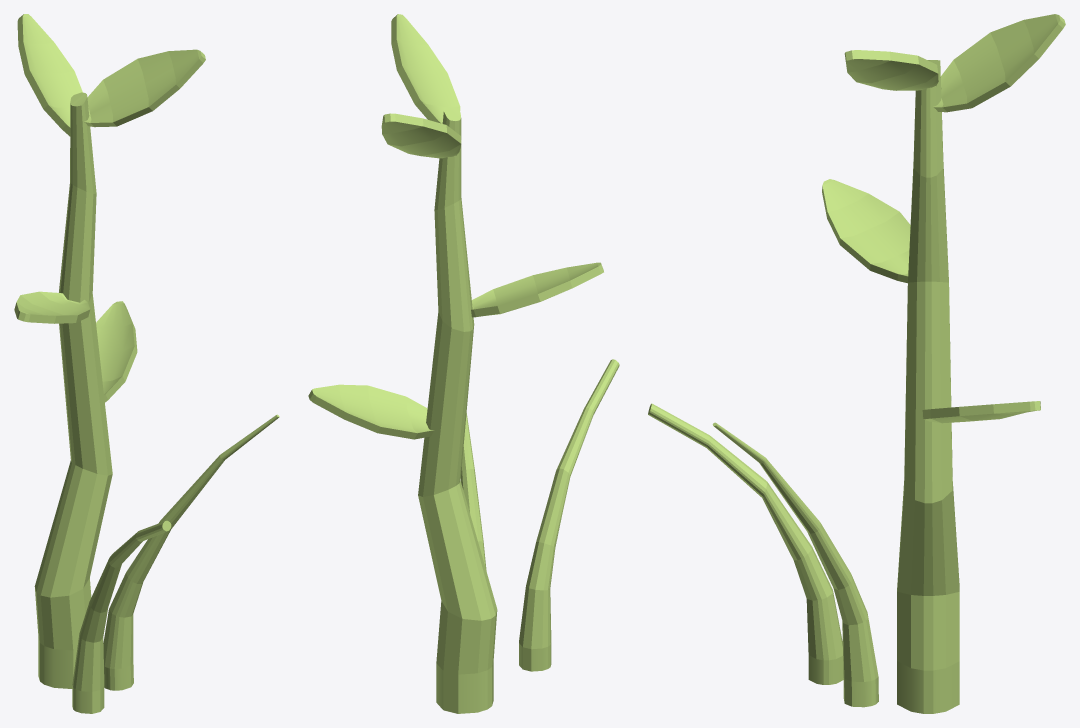
File: pousse_tomate_lavraie.fbx
3 views of the same model, side by side, from view 1: azimuth 30°, elevation 25°; view 2: azimuth 150°, elevation 25°; view 3: azimuth 270°, elevation 25° (orthographic). The views are drawn at different scales.
Parts seen in each view (by area): view 1: pCube9; view 2: pCube9; view 3: pCube9.
Boxes of the visible parts, x1,y1,x2,y2 form: pCube9: (14,14,279,713); pCube9: (308,14,619,713); pCube9: (648,14,1065,713).
Bounding box in the file's own units: 5.7 × 16.21 × 8.7.
